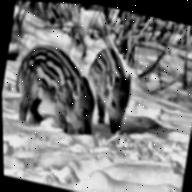boar: (0, 19, 105, 155), (79, 37, 156, 143)
